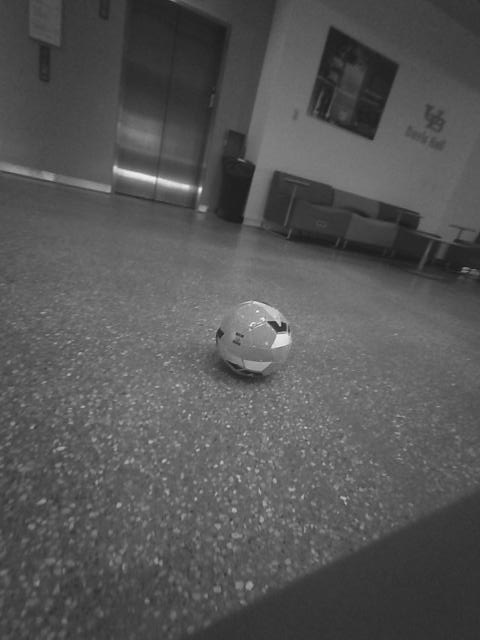ball: (98, 219, 151, 265)
